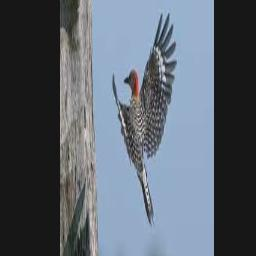Woodpecker: (112, 12, 177, 227)
